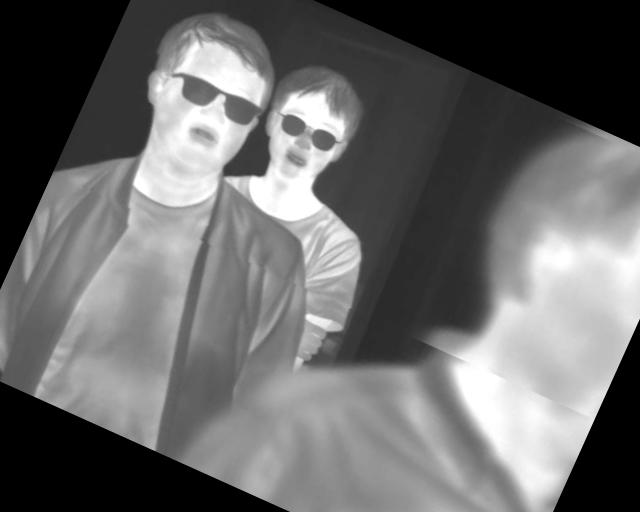face: (114, 1, 294, 194), (245, 51, 378, 199)
